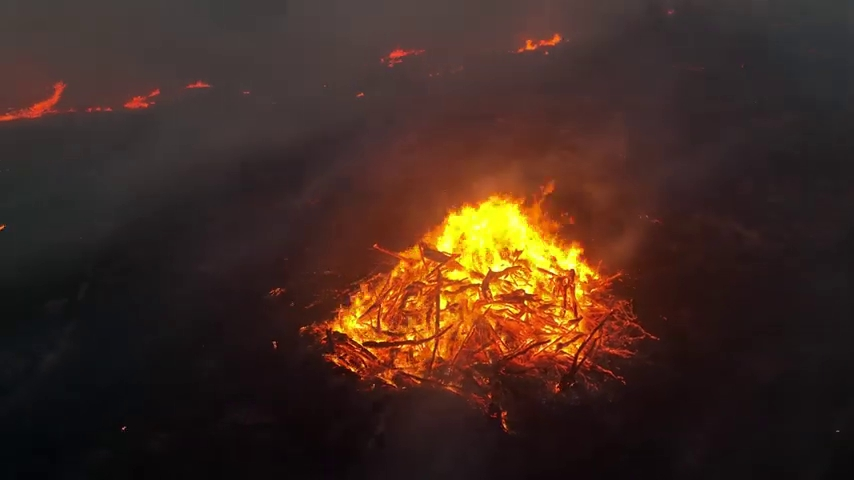forest_fire: (302, 195, 647, 419), (0, 81, 66, 121), (510, 33, 563, 54), (380, 48, 424, 67), (123, 88, 160, 107), (183, 80, 212, 87), (82, 106, 112, 111), (544, 189, 548, 192)
